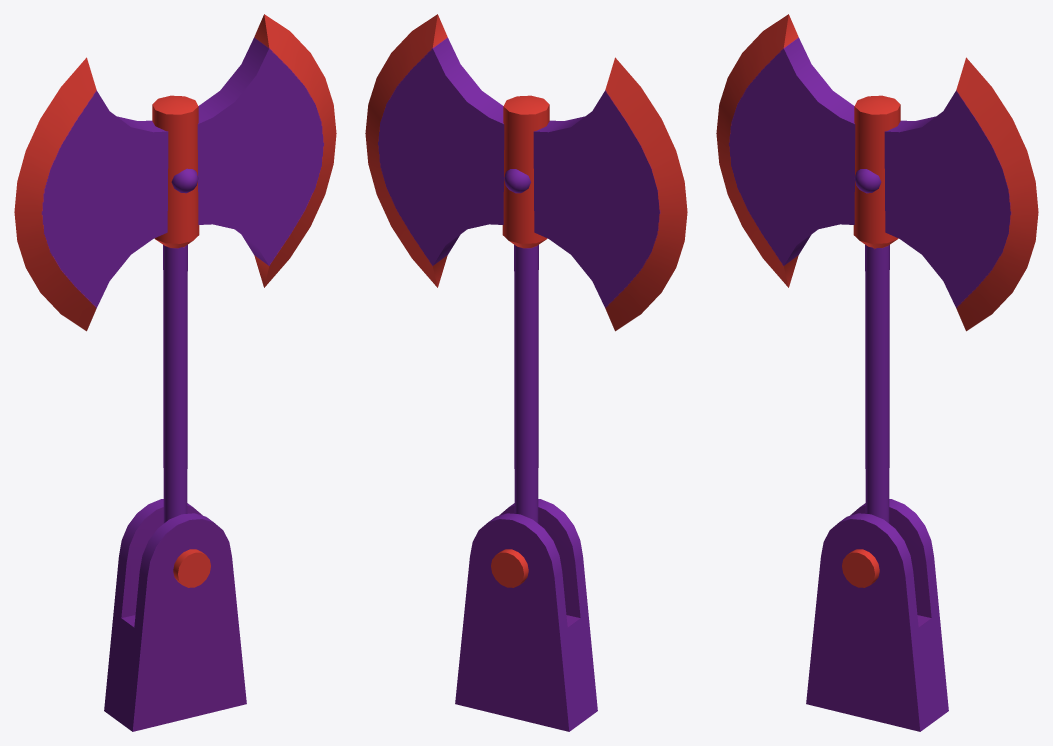
The model's file is PokemonMonster_Landing_AXE.fbx.
The picture shows the model from 3 angles, left to right: view 1: azimuth 30°, elevation 25°; view 2: azimuth 150°, elevation 25°; view 3: azimuth 330°, elevation 25°; orthographic projection.
Parts seen in each view (by area): view 1: AXE, Base; view 2: AXE, Base; view 3: AXE, Base.
Part boxes in pixels (box(x1,y1,x2,y2)): AXE: box(14, 14, 336, 587); Base: box(104, 499, 246, 731); AXE: box(365, 14, 687, 587); Base: box(455, 499, 597, 731); AXE: box(716, 14, 1038, 587); Base: box(806, 499, 948, 731).
Bounding box in the file's own units: 166 × 330 × 33.83.
Materials: 1 (1 with a texture image).
